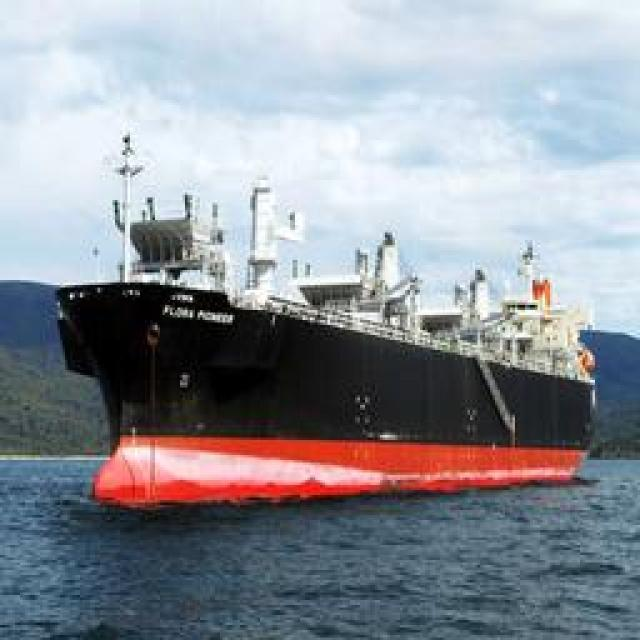CIV_Ship: (64, 262, 612, 510)
